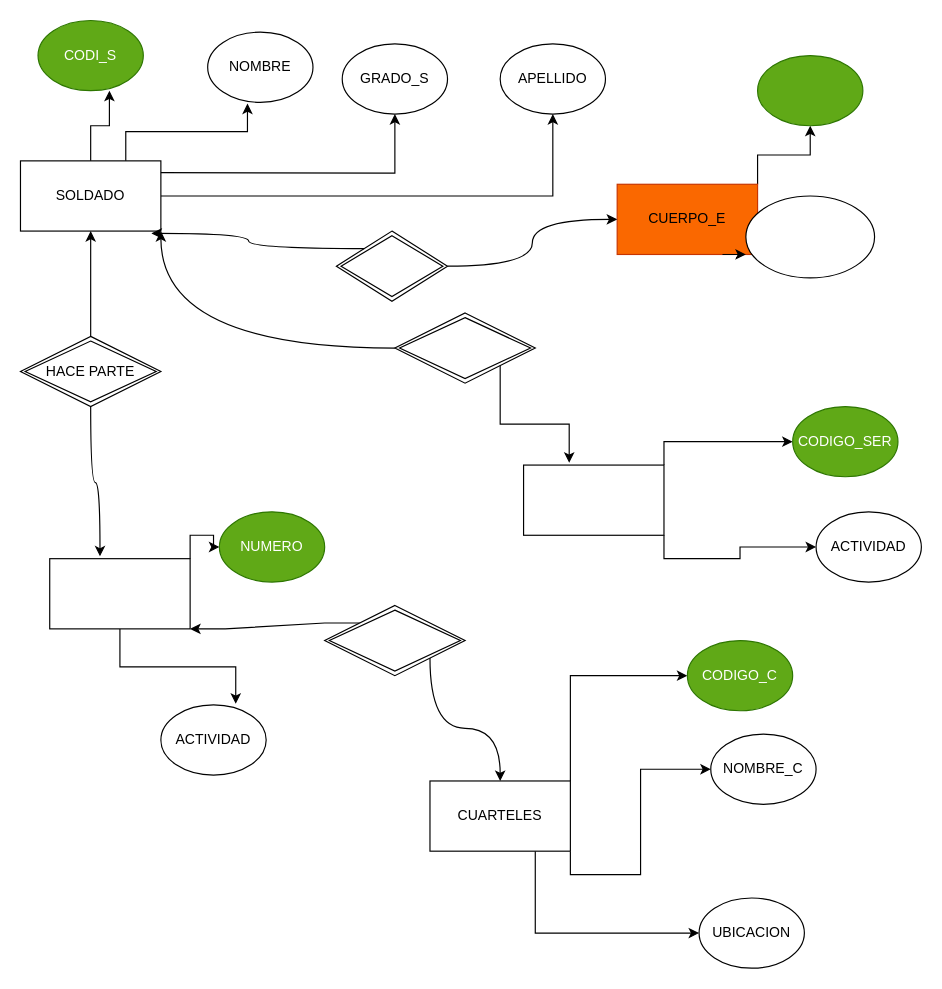
Some shapes in this 942 by 989 pixel diagram are drawn without their labels. Each missing label, with the centre of its shape:
"COD_CUERPO" belongs at [809,90].
"COMPAÑIA" belongs at [119,593].
"DENOMINACION" belongs at [810,236].
"HACE" belongs at [464,347].
"PERTENECE" belongs at [391,265].
"SERVICIOS" belongs at [593,499].
"TIENE" belongs at [394,640].
